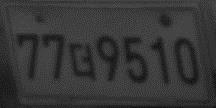0: (173, 36, 200, 83)
1: (145, 33, 180, 86)
5: (121, 35, 149, 83)
7: (15, 31, 41, 79), (40, 32, 65, 80)
9: (96, 34, 120, 82)
더: (68, 40, 99, 81)
